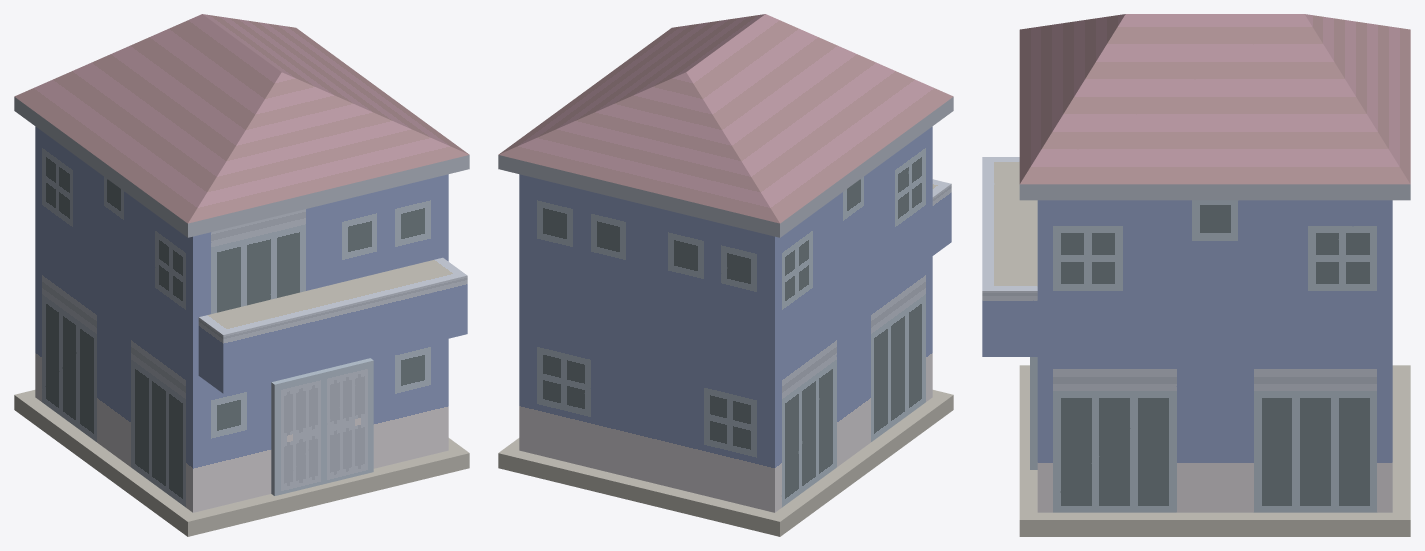
Rendered from 025d_Onishi_Residence.glb.
3 renders of one model, left to right at view 1: azimuth 30°, elevation 25°; view 2: azimuth 150°, elevation 25°; view 3: azimuth 270°, elevation 25°, orthographic. The views are drawn at different scales.
Visible parts, largest first — view 1: part_0; view 2: part_0; view 3: part_0.
Part boxes in pixels (box(x1,y1,x2,y2)): part_0: box(14, 14, 469, 536); part_0: box(498, 14, 953, 536); part_0: box(982, 14, 1410, 536).
Bounding box in the file's own units: 4.89 × 6.57 × 5.72.
1 material, 1 textured.
